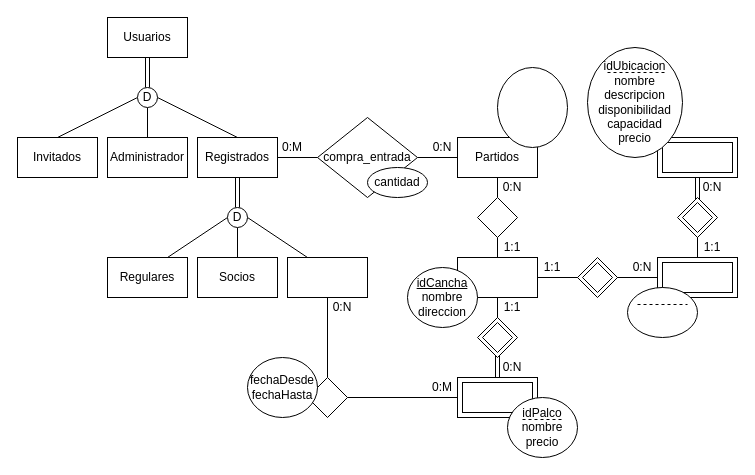
The diagram is 755 pixels wide and 475 high, and some of its shapes have lost their labels. Here are the shapes that lost their labels. From the top down, the centre of each, then its label:
point (532, 107): fecha hora rival restulado detalles
point (697, 157): Ubicaciones
point (327, 277): VIPs
point (497, 277): Canchas
point (697, 277): Tribunas
point (662, 312): idTribuna nombre estado
point (497, 397): Palcos
